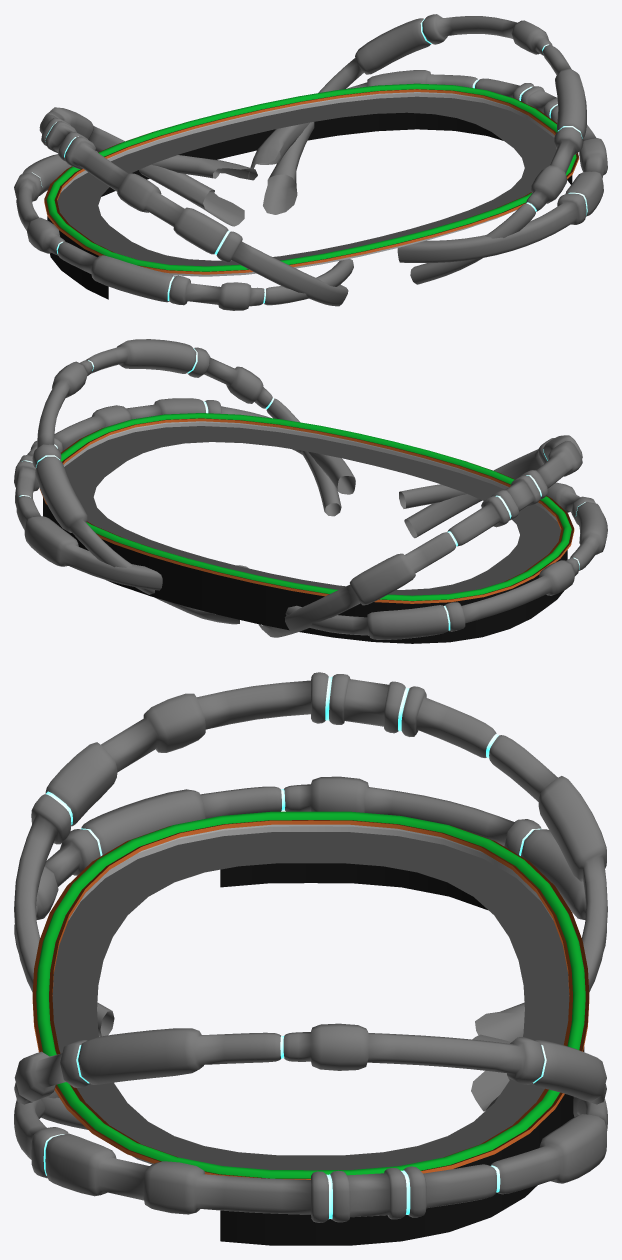
The model's file is PH_mesh_RooftopArena_BGStadium.fbx.
The picture shows the model from 3 angles, top to bottom: view 1: azimuth 30°, elevation 25°; view 2: azimuth 150°, elevation 25°; view 3: azimuth 270°, elevation 25°; orthographic projection. The views are drawn at different scales.
Visible parts, largest first — view 1: mesh_anneaux.002, mesh_building; view 2: mesh_anneaux.002, mesh_building; view 3: mesh_anneaux.002, mesh_building.
Boxes of the visible parts, left/top/right/bottom form: mesh_anneaux.002: left=14, top=14, right=607, bottom=310; mesh_building: left=44, top=83, right=578, bottom=299; mesh_anneaux.002: left=14, top=339, right=607, bottom=639; mesh_building: left=39, top=413, right=574, bottom=643; mesh_anneaux.002: left=14, top=672, right=607, bottom=1222; mesh_building: left=32, top=811, right=589, bottom=1245.
Size of the model in its own units: 77.56 by 24.44 by 47.44.
